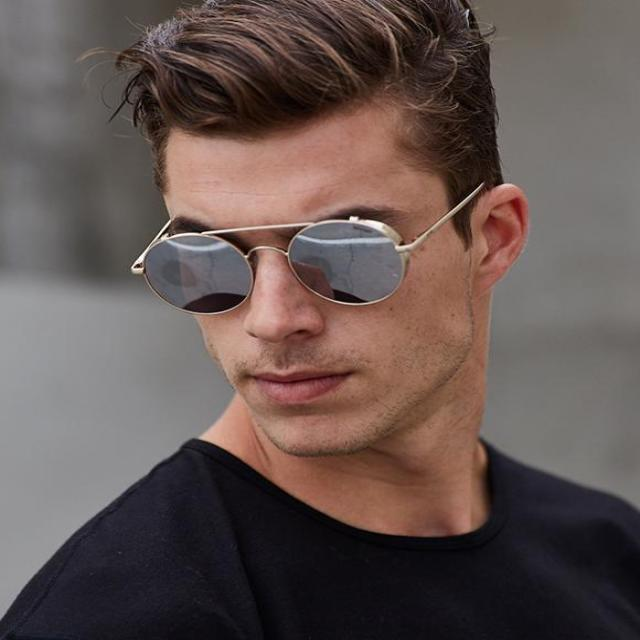human: (96, 1, 634, 640)
